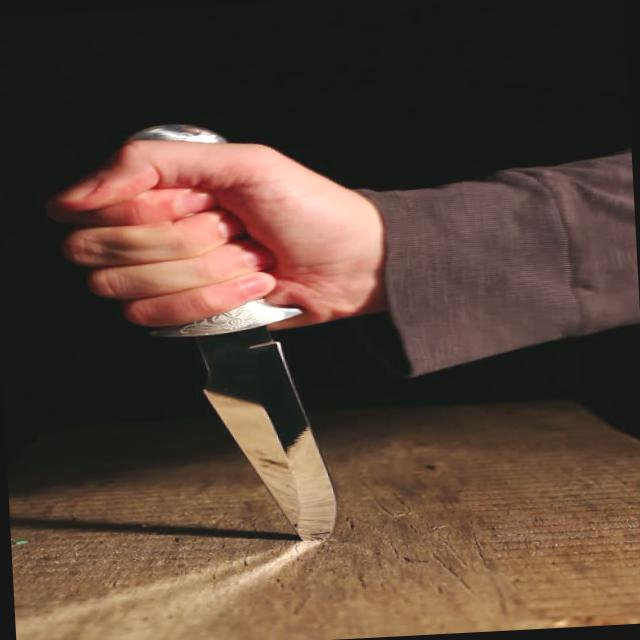knife: (48, 203, 352, 570)
